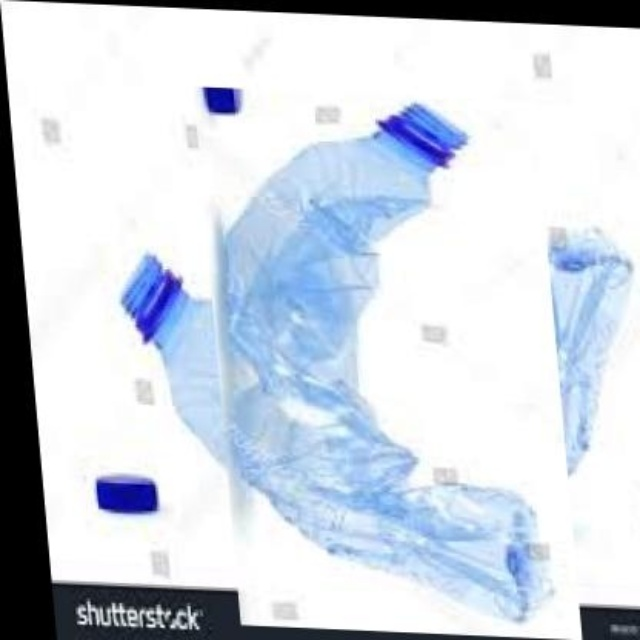trash: (222, 105, 540, 618)
